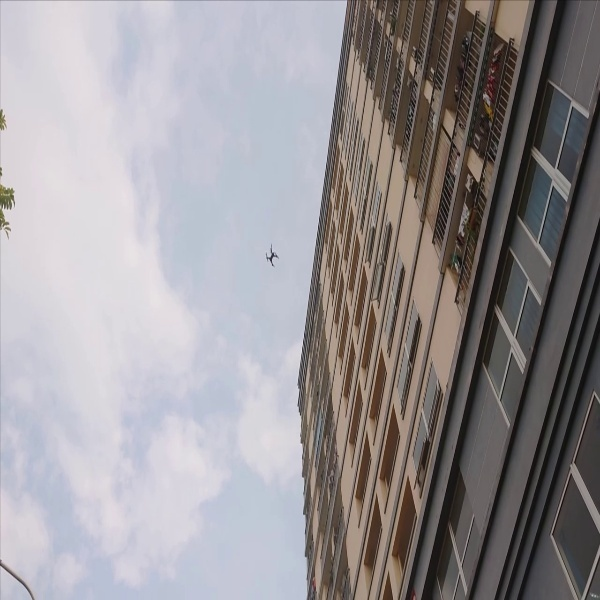drone: (260, 238, 284, 269)
